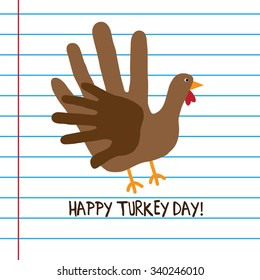bird: (48, 20, 204, 196)
